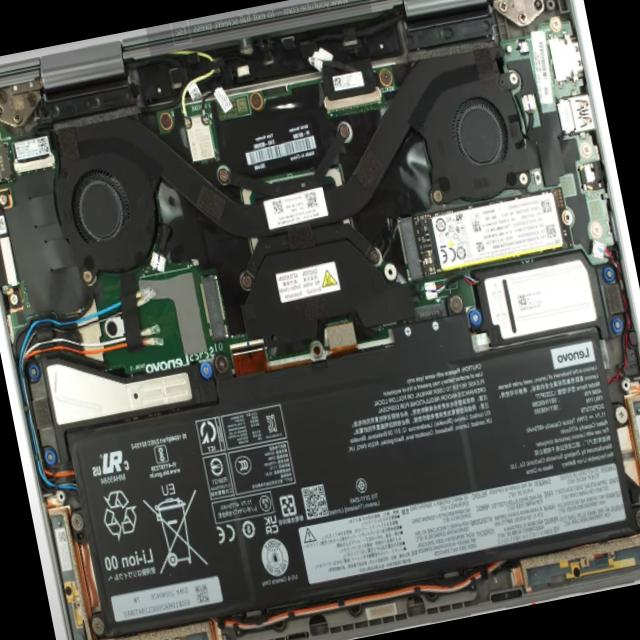battery: (70, 332, 634, 630)
ssd: (404, 186, 574, 283)
wifi: (177, 102, 220, 164)
